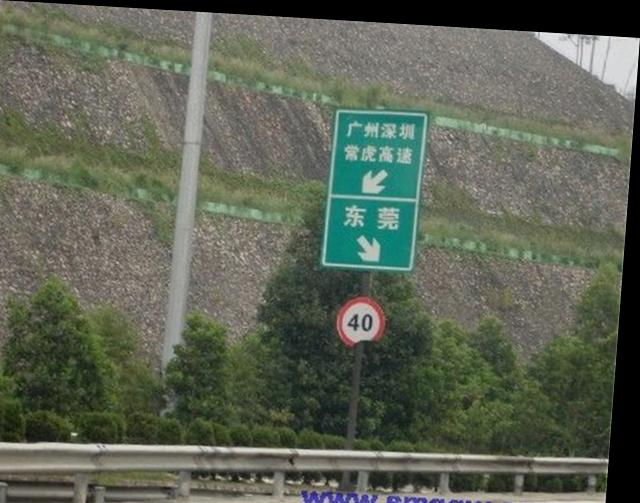limit40: (338, 293, 397, 345)
